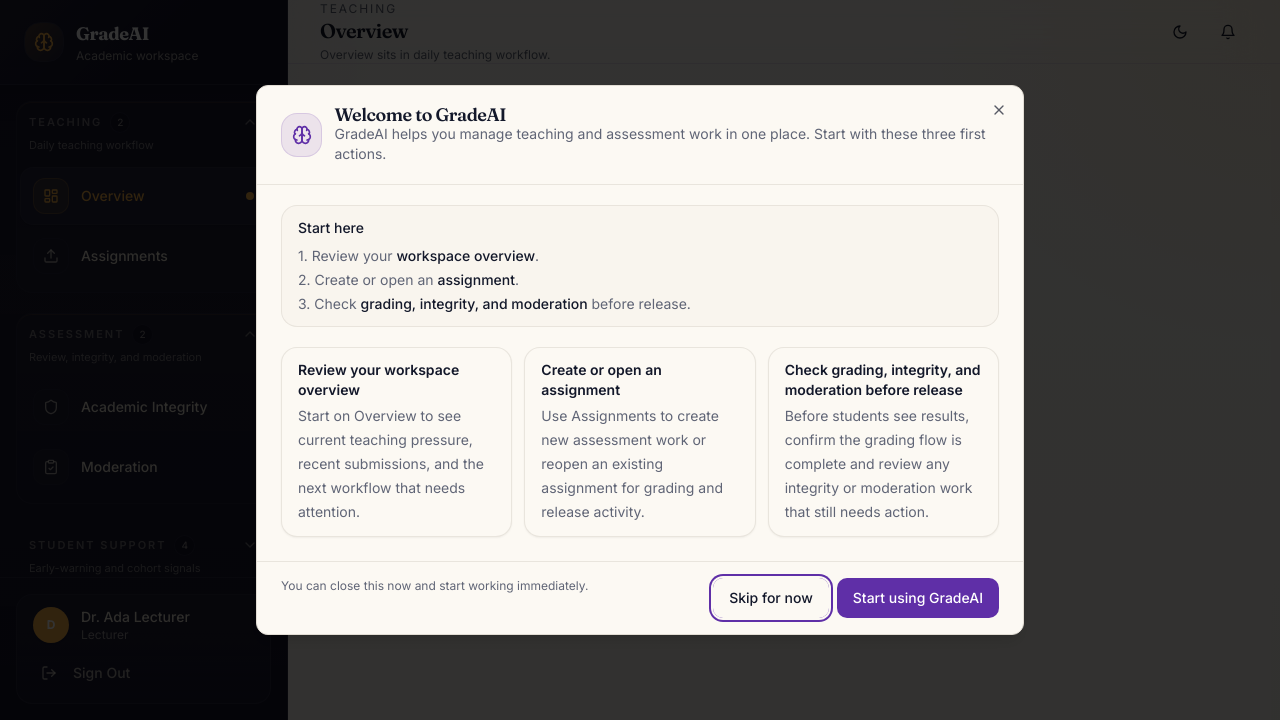
DashboardLayout demo mode › shows the first-run onboarding modal for real lecturer sessions and stores dismissal
The image size is (1280, 720).
expect the heading "Welcome to GradeAI" is shown: met, box top-left (334, 103), bottom-right (506, 126)
expect the text "Start here" is shown: met, box top-left (298, 219), bottom-right (364, 236)
Click the button "Start using GradeAI": click(918, 598) top-left (837, 578), bottom-right (999, 618)
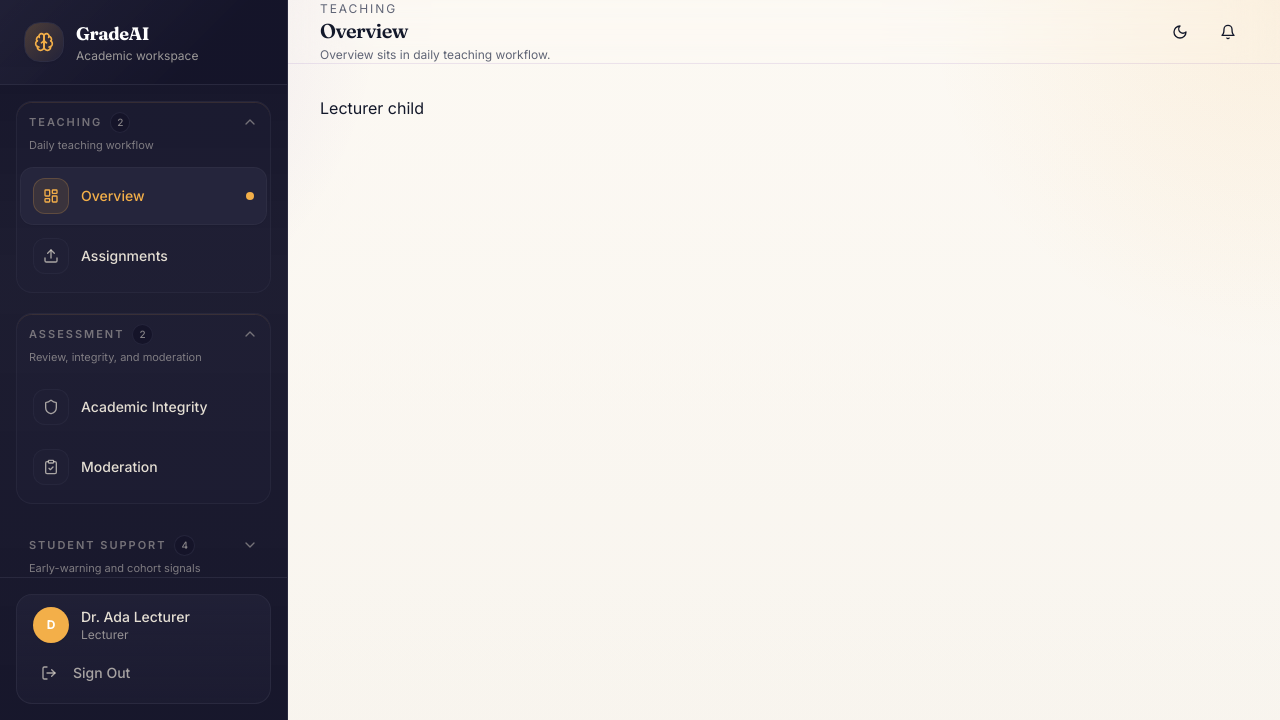
expect the heading "Welcome to GradeAI" is gone: met
